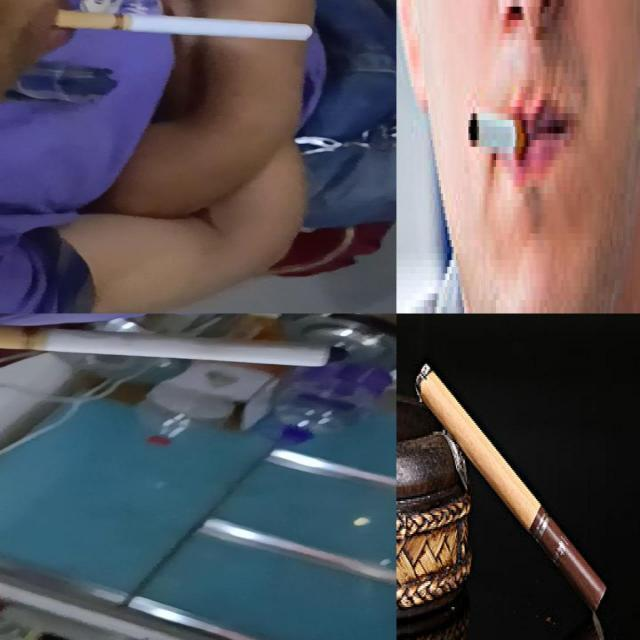cigarette: (416, 362, 606, 610), (0, 324, 334, 371), (55, 10, 316, 41), (464, 100, 526, 147)
